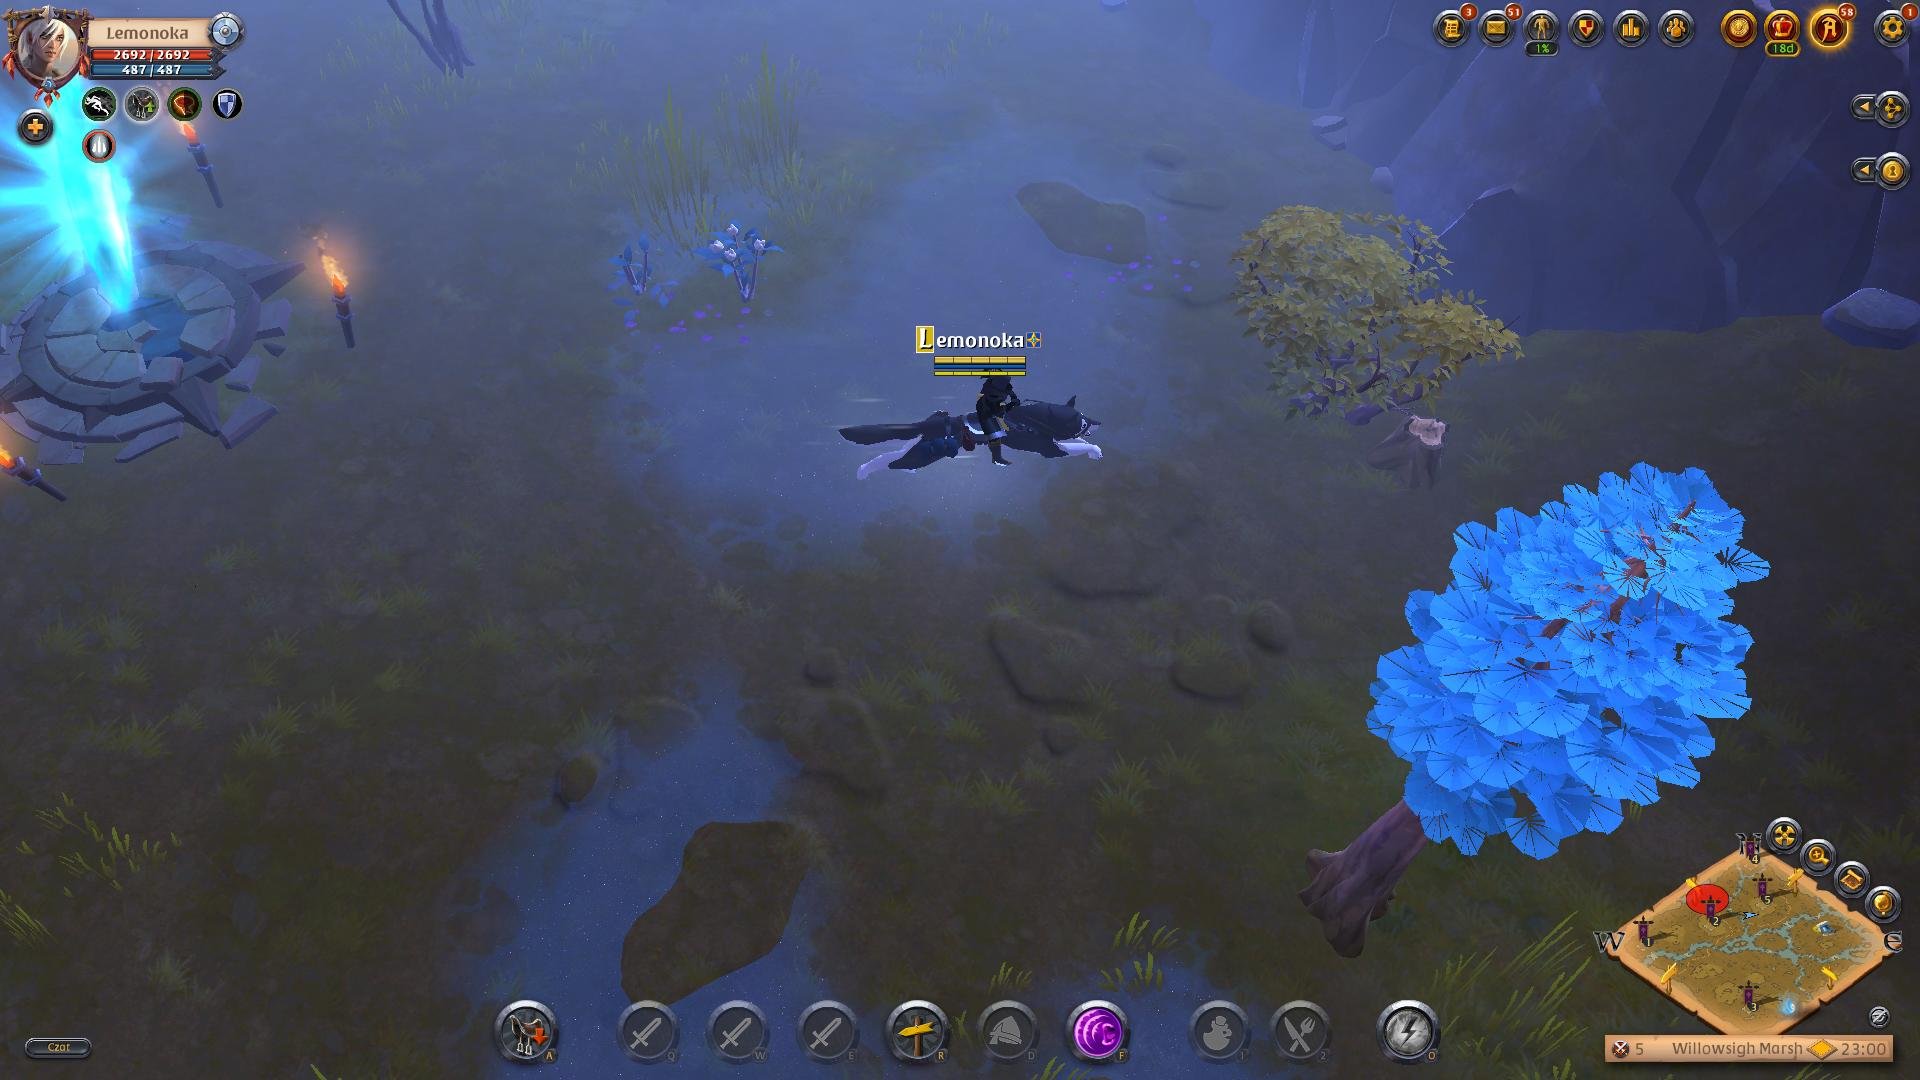fiber tier 4: (700, 220, 781, 303)
wood tier 4: (1364, 456, 1775, 866)
